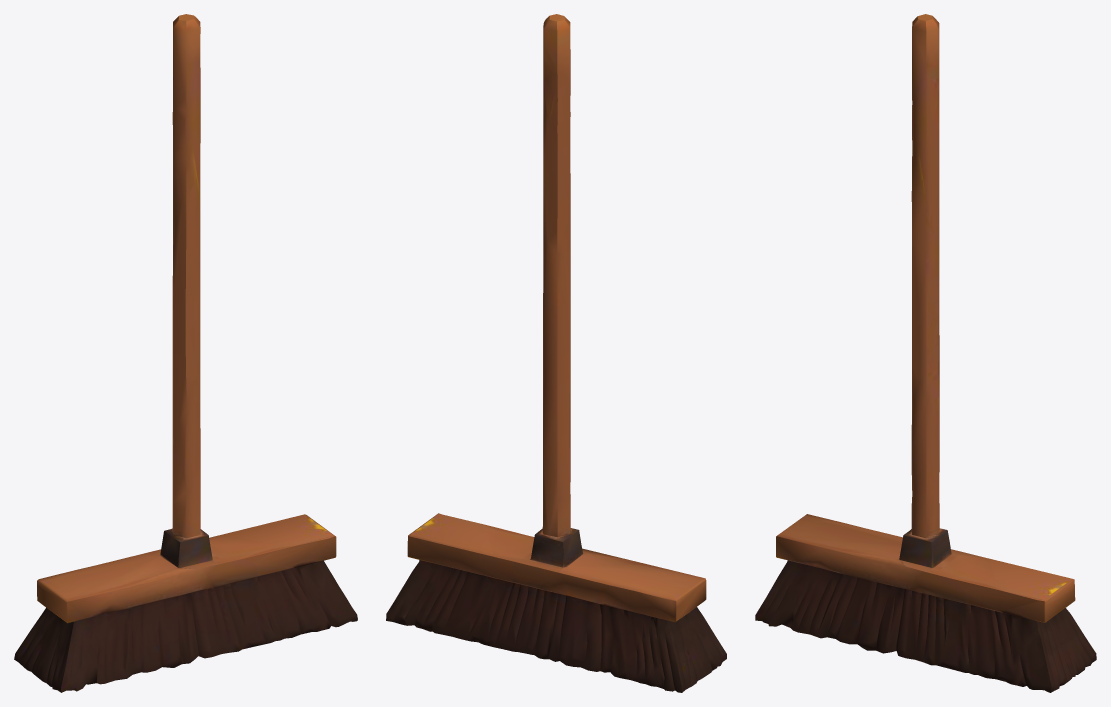
The model's file is tool_broom_push_idle.glb.
The picture shows the model from 3 angles, left to right: view 1: azimuth 30°, elevation 25°; view 2: azimuth 150°, elevation 25°; view 3: azimuth 330°, elevation 25°; orthographic projection.
Visible parts, largest first — view 1: tool_broom_push; view 2: tool_broom_push; view 3: tool_broom_push.
Part boxes in pixels (bbox=[...]): tool_broom_push: bbox=[14, 14, 357, 692]; tool_broom_push: bbox=[386, 14, 726, 692]; tool_broom_push: bbox=[755, 14, 1096, 692].
Bounding box in the file's own units: 0.701 × 1.4 × 0.1908.
1 material, 1 textured.
